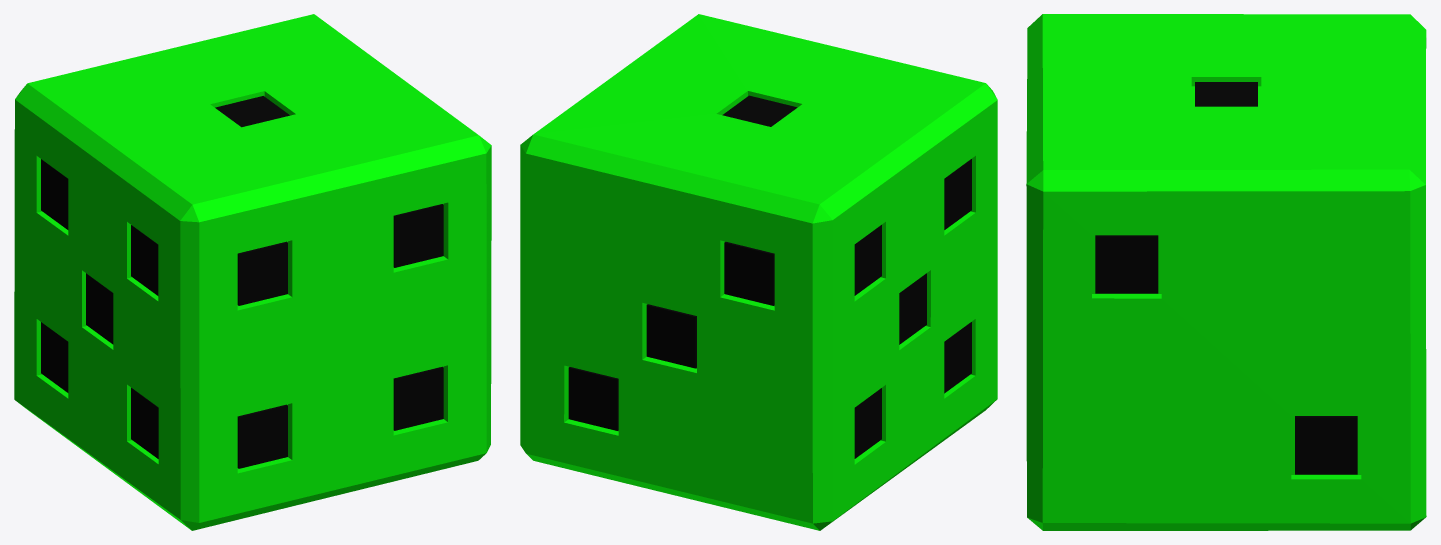
File: 0_dice_green.gltf
3 views of the same model, side by side, from view 1: azimuth 30°, elevation 25°; view 2: azimuth 150°, elevation 25°; view 3: azimuth 270°, elevation 25° (orthographic). The views are drawn at different scales.
Parts seen in each view (by area): view 1: D6_Dice_Green; view 2: D6_Dice_Green; view 3: D6_Dice_Green.
Part boxes in pixels (x1,y1,x2,y2): D6_Dice_Green: (14,14,491,530); D6_Dice_Green: (520,14,997,530); D6_Dice_Green: (1026,14,1426,530).
Bounding box in the file's own units: 2 × 2 × 2.
